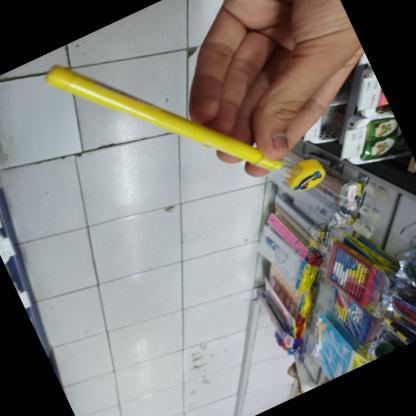pencil: (37, 63, 323, 191)
